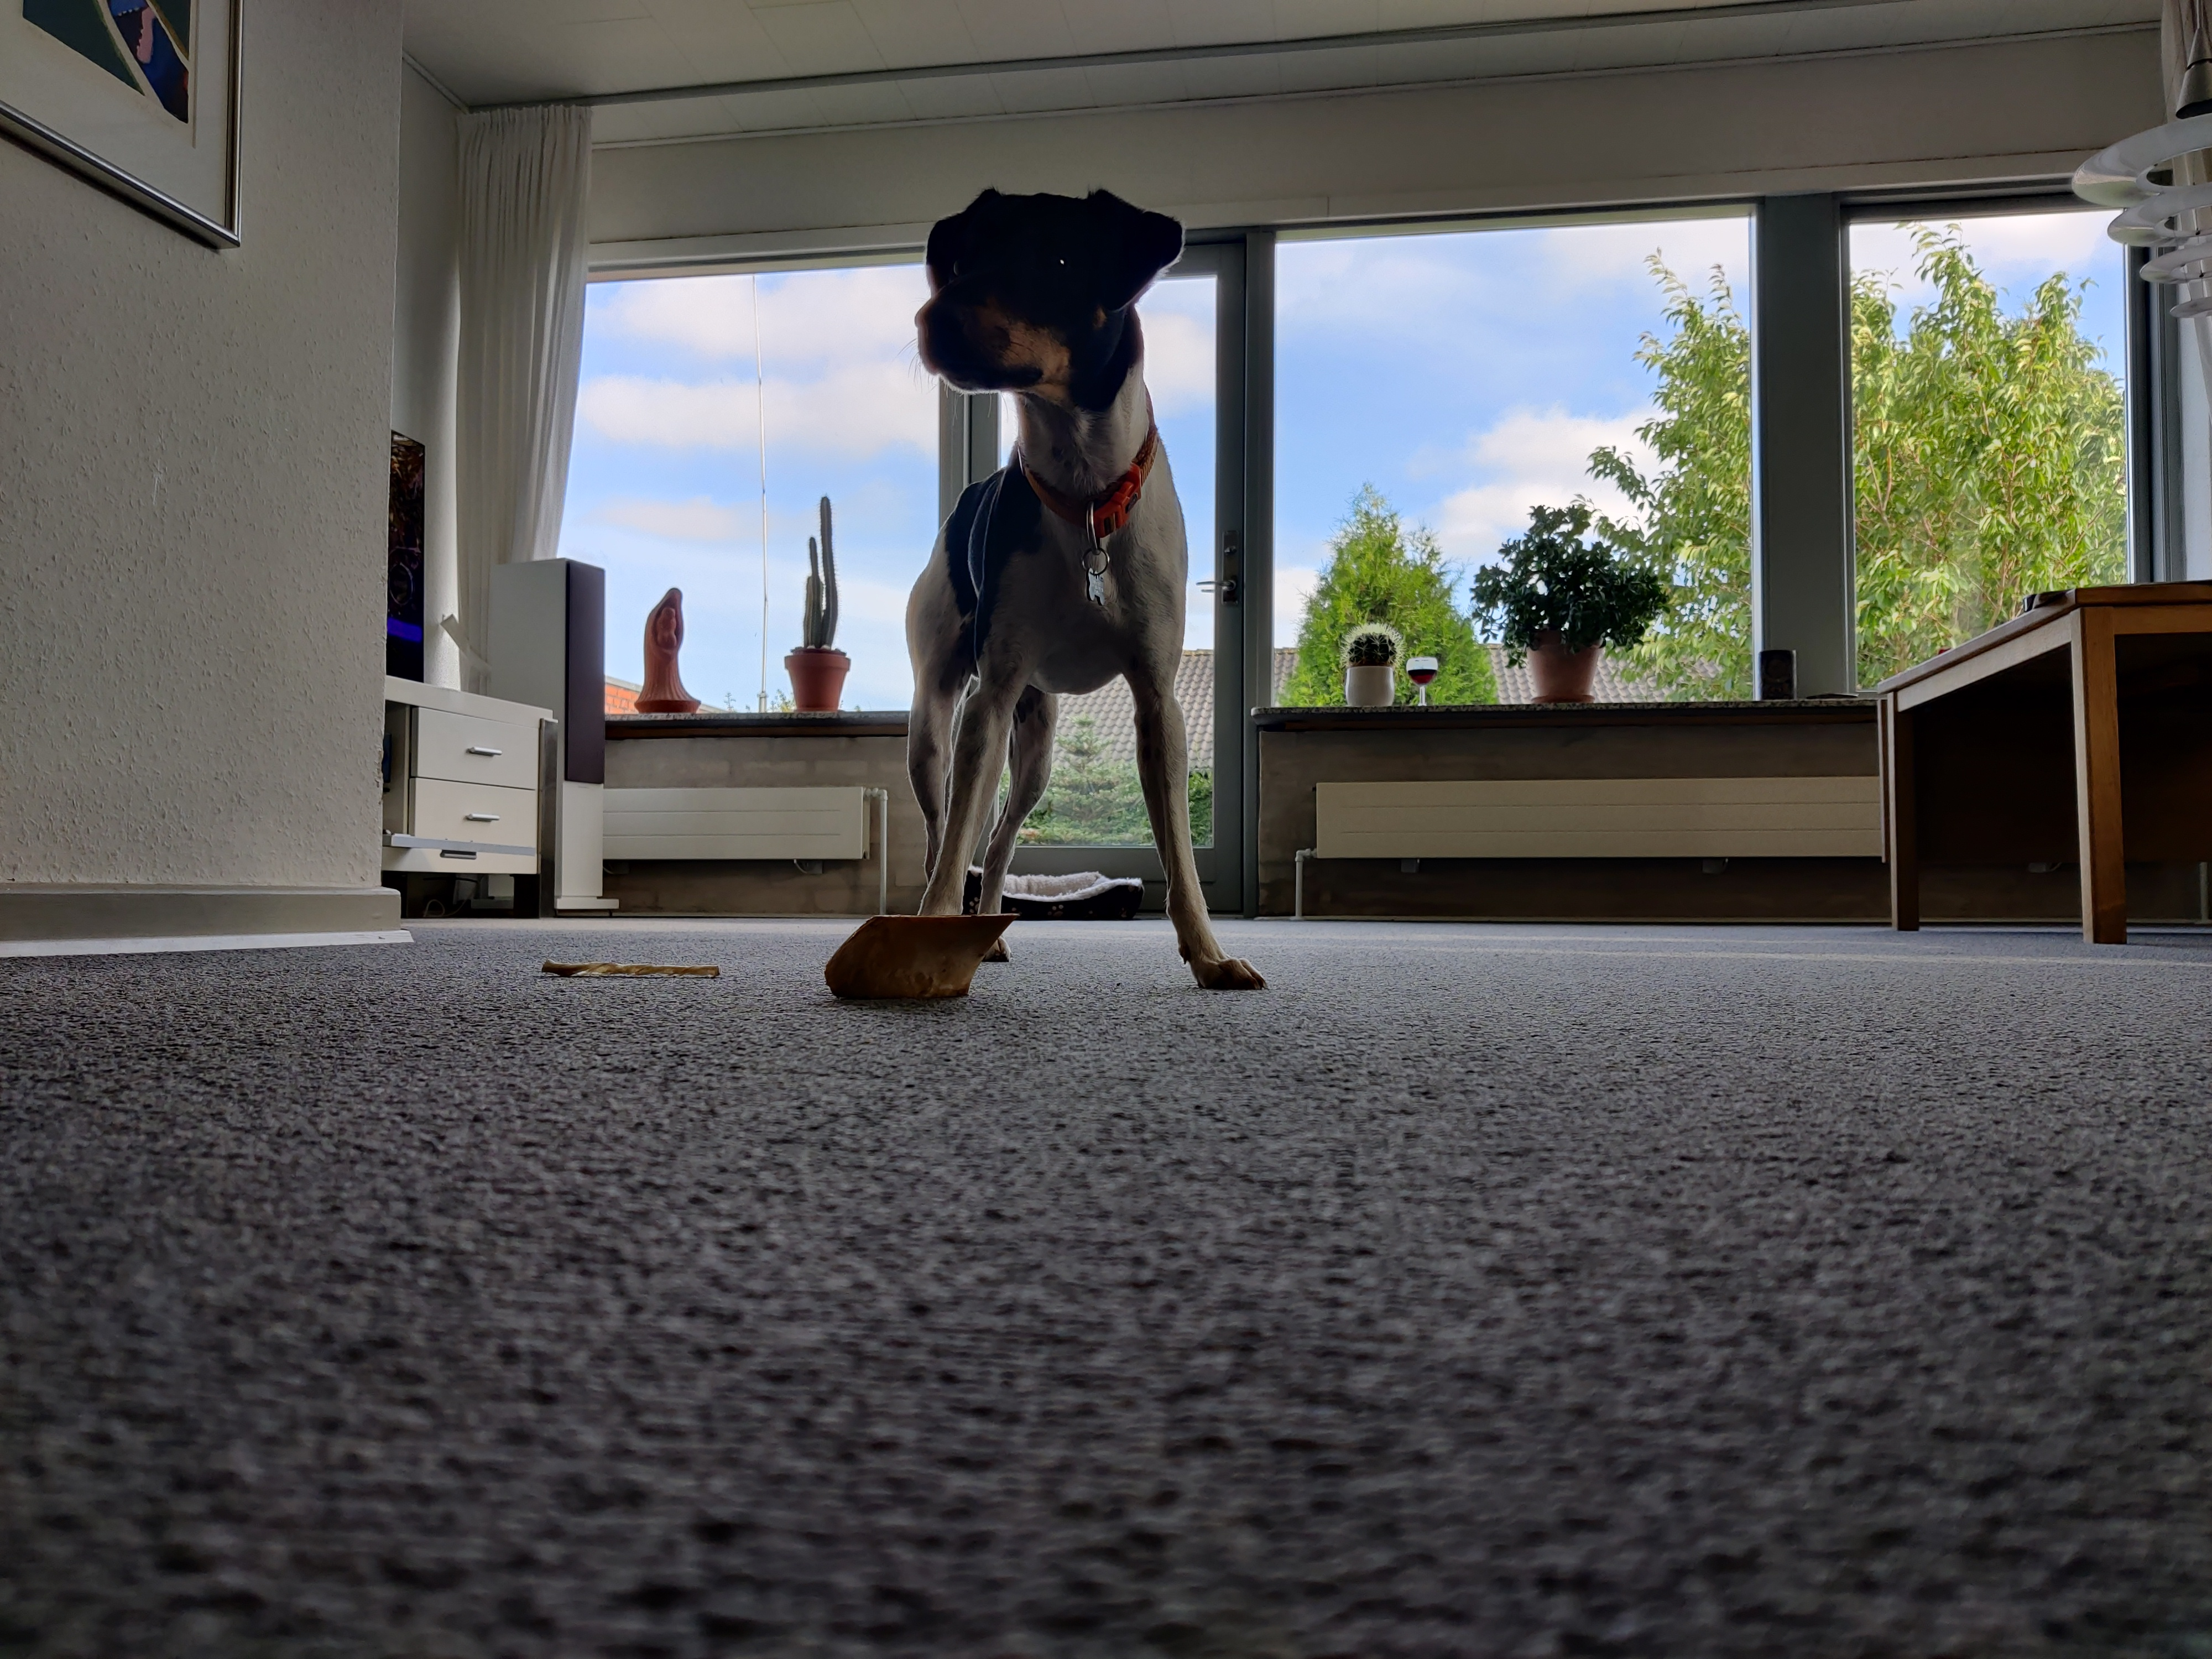Dog: (894, 160, 1278, 992)
